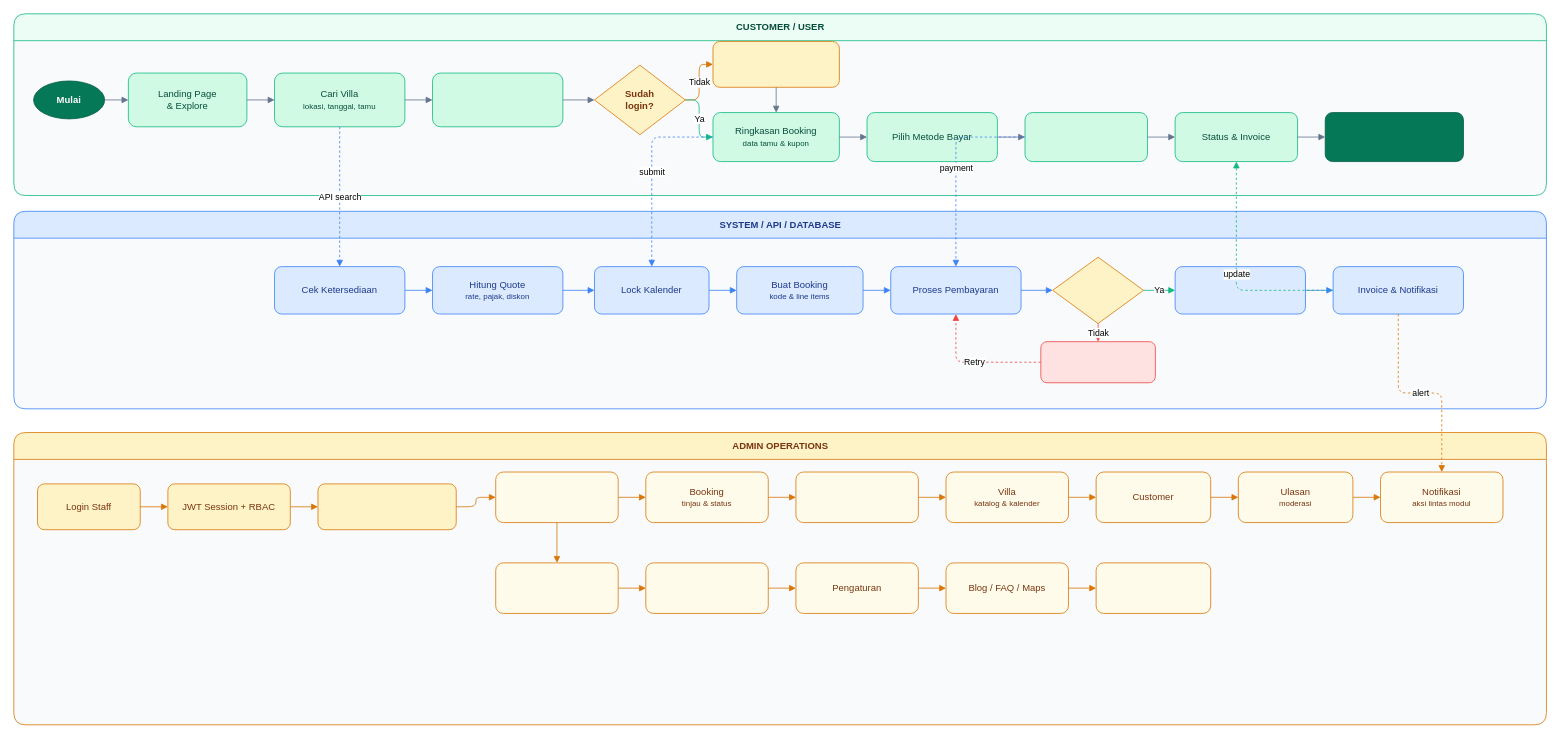
This 1560x739 diagram has some shape labels left out. The shapes that lost their labels are listed below. From the top down, each one's centre as x and y in pixels, then its label:
At (775,64): "Login / Registrasi".
At (497,99): "Detail Villa galeri, fasilitas, harga".
At (1085,137): "Bayar transfer / gateway".
At (1393,137): "Dashboard booking, wishlist, review".
At (1098,290): "Berhasil?".
At (1239,290): "Konfirmasi Booking blok tanggal & status".
At (1097,362): "FAILED / RETRY instruksi ulang".
At (386,506): "Menu sesuai Permission".
At (556,497): "Overview KPI & aktivitas".
At (856,497): "Pembayaran verifikasi & refund".
At (556,587): "Laporan revenue & ekspor".
At (706,587): "Pengguna & Role".
At (1153,587): "Audit Status history & events".
